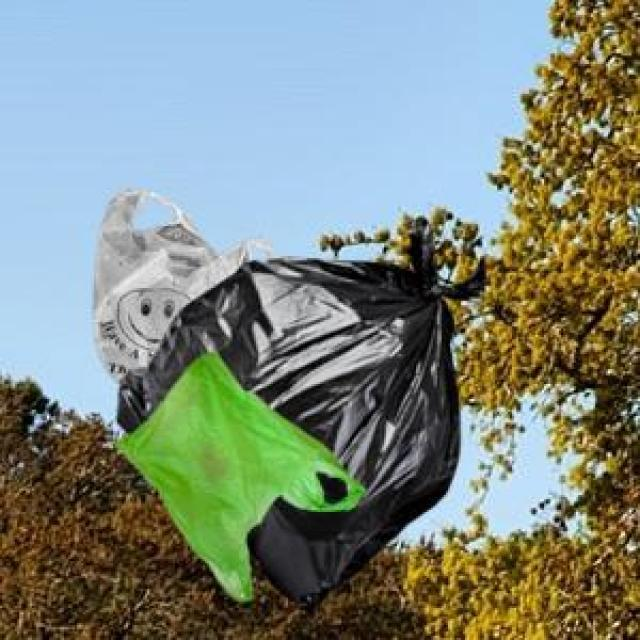miscellaneous trash: (113, 213, 482, 610)
